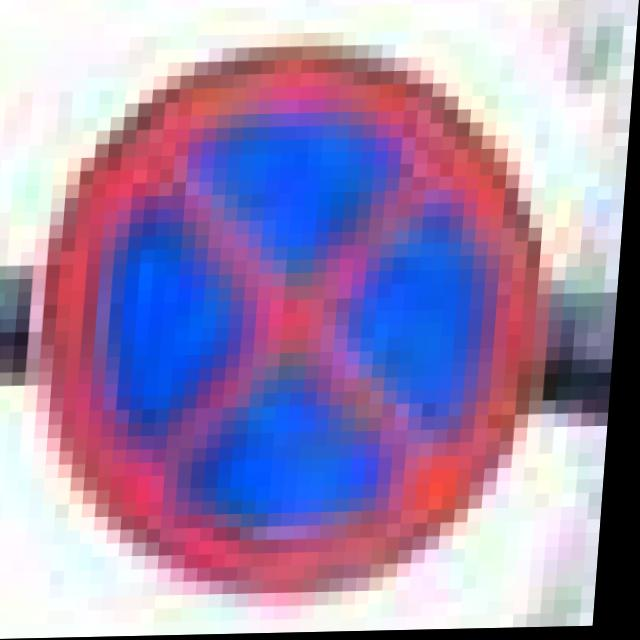NO_STOPPING_OR_STANDING: (24, 44, 558, 610)
